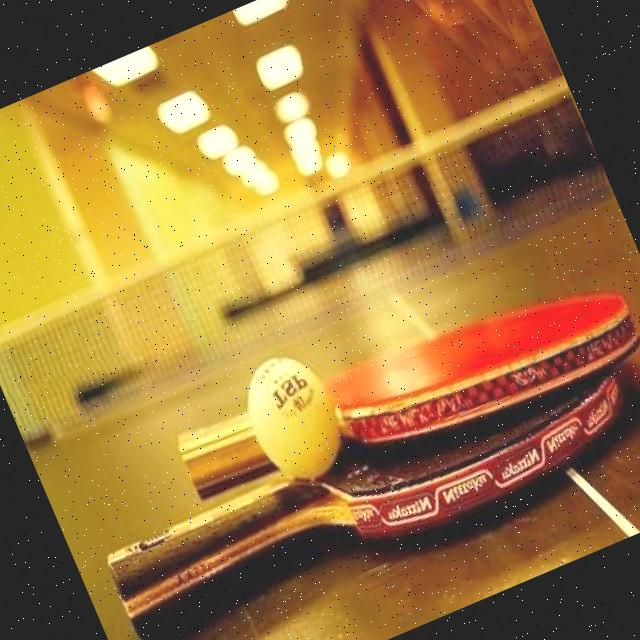ping-pong-ball: (227, 339, 355, 491)
